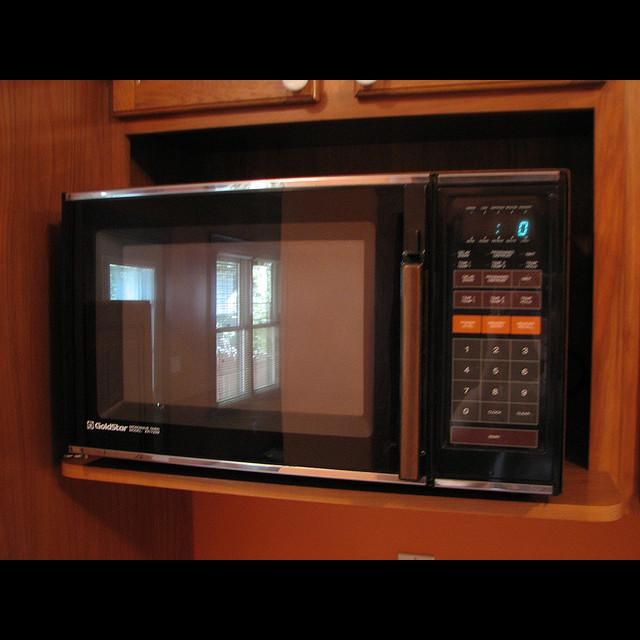Microwave: (61, 171, 572, 500)
